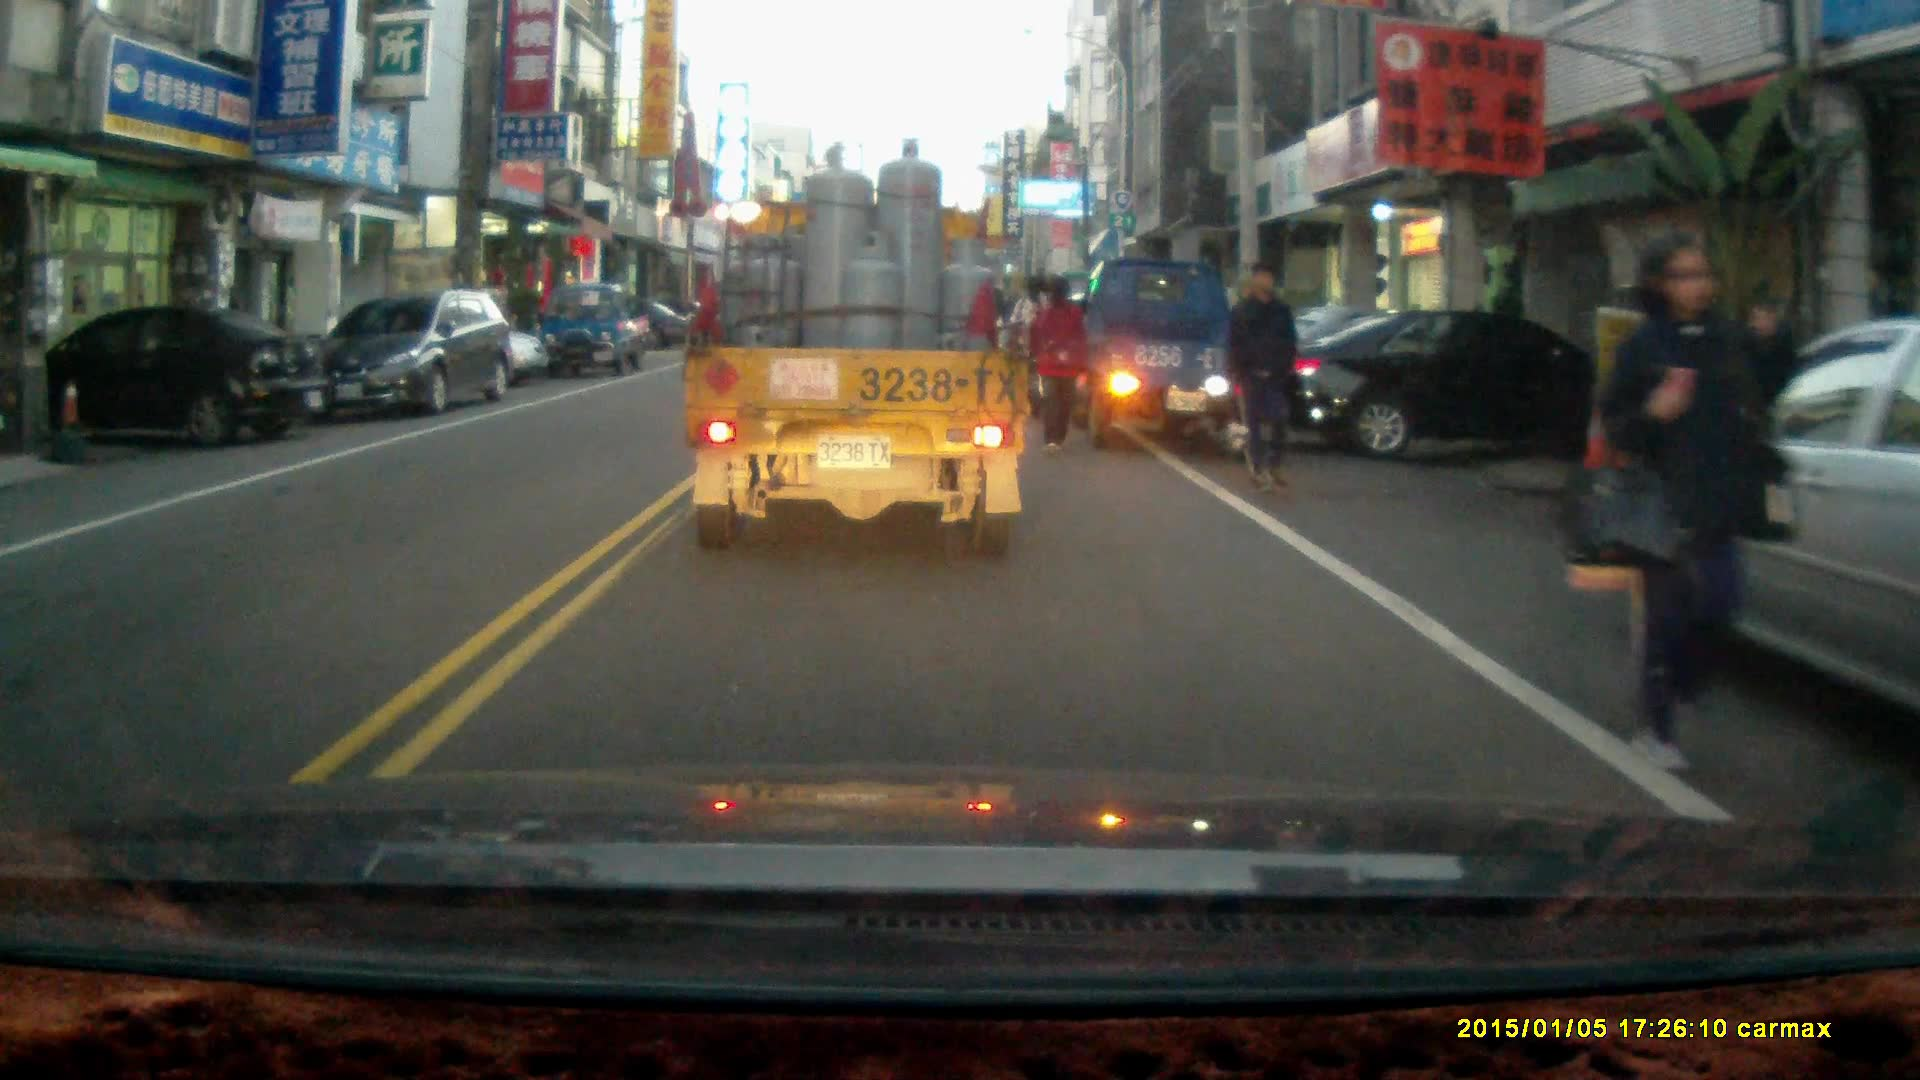pedestrian: (1600, 228, 1800, 779), (1220, 257, 1302, 494), (1025, 269, 1087, 456)
vehicle: (679, 136, 1033, 565), (1600, 323, 1920, 720), (1264, 301, 1604, 477), (1, 303, 336, 451), (1077, 257, 1297, 460), (305, 290, 524, 422), (539, 278, 653, 377)
